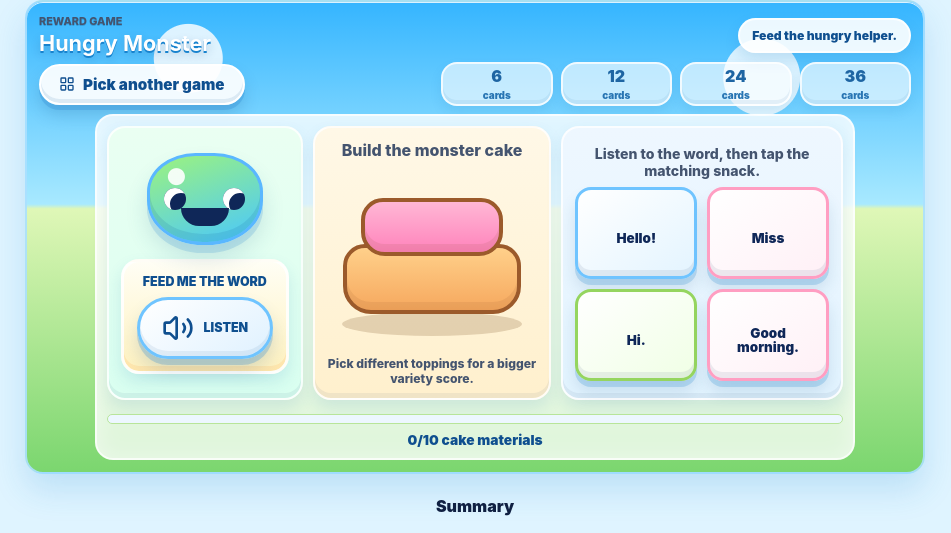
reward clear game › adds the picked cake material before starting the next Hungry Monster word
Click the button with class "reward-choice-card" showing "Hello!": [636, 233] box top-left (575, 187), bottom-right (697, 279)
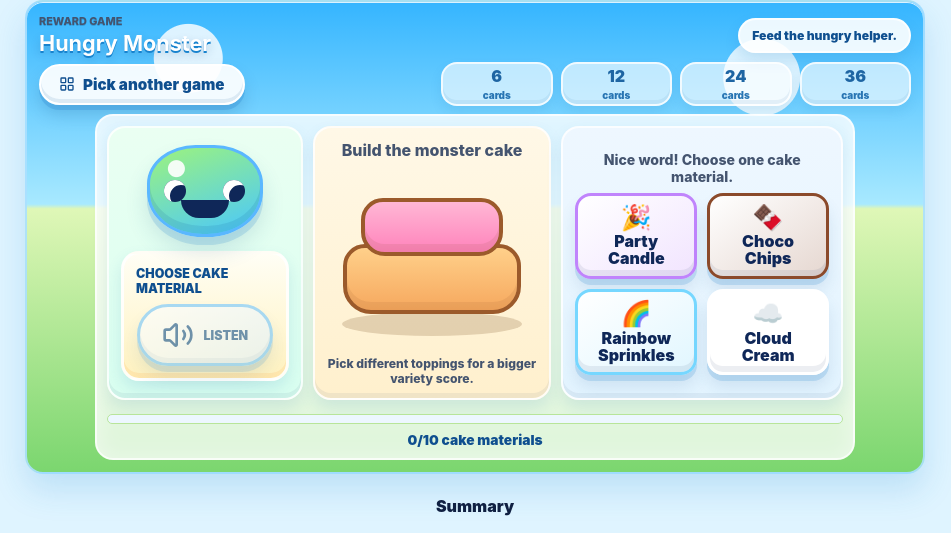
Expected: the button with class "cake-material-card" showing "🎉 Party Candle" is shown
Click the button with class "cake-material-card" showing "🎉 Party Candle": [636, 236] box top-left (575, 193), bottom-right (697, 279)
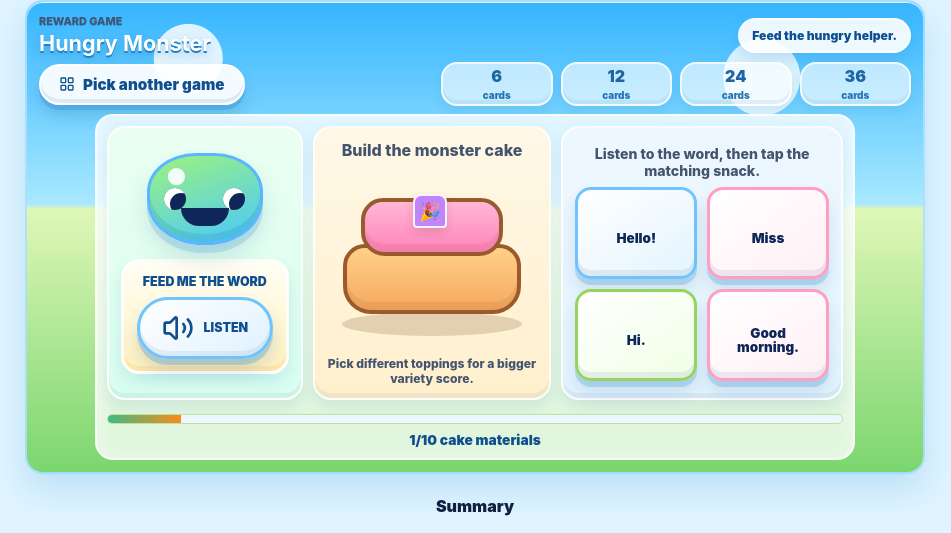
Expected: the element with class "cake-material-grid" is gone
Expected: the number of elements with class "cake-topping" is 1, top-left (413, 194), bottom-right (447, 228)
Expected: the text with class "rescue-meter-copy" reads "1/10 cake materials", top-left (409, 432), bottom-right (541, 448)
